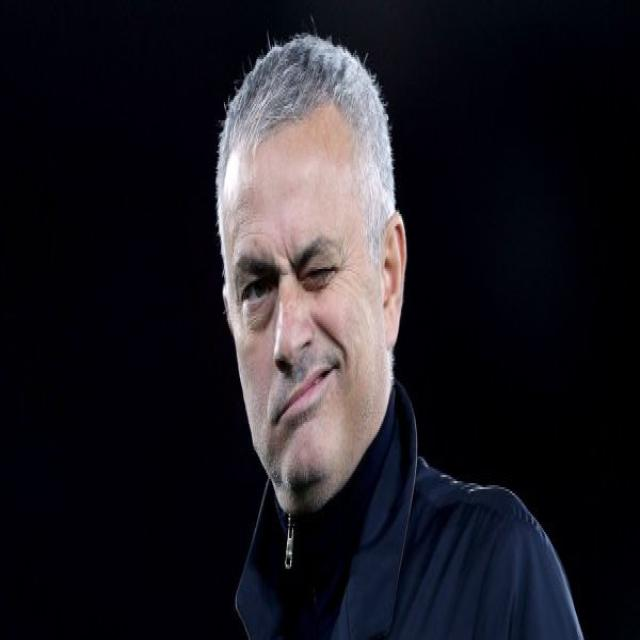human: (187, 27, 589, 640)
